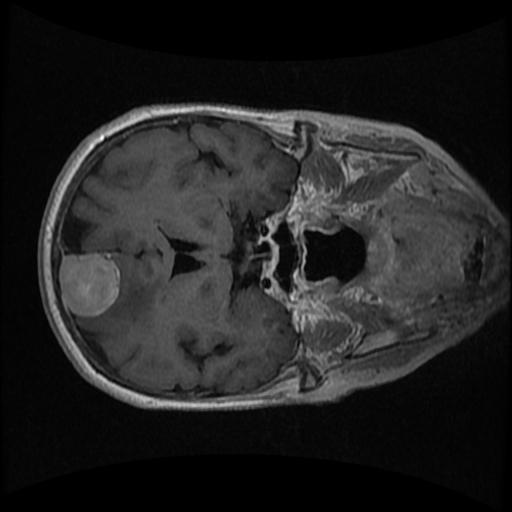meningioma: (60, 254, 116, 316)
